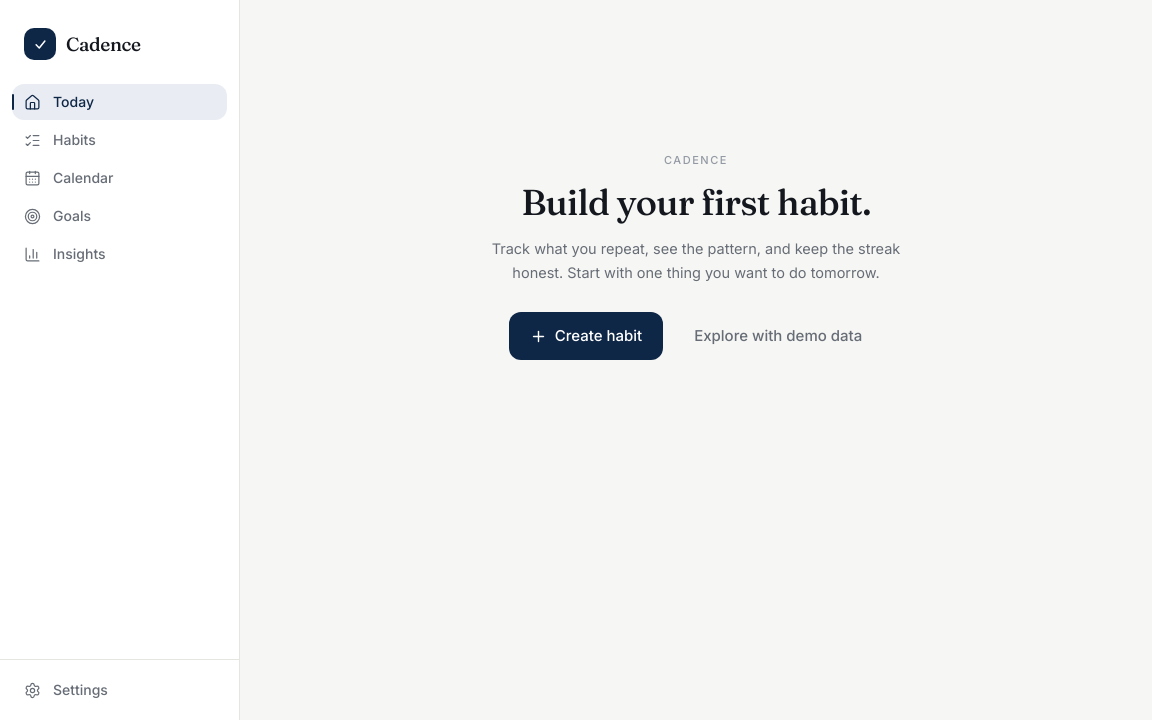
creating a habit › refuses to submit without a name
Click the button "Create habit".
click(586, 336)  # box [509,312,663,360]
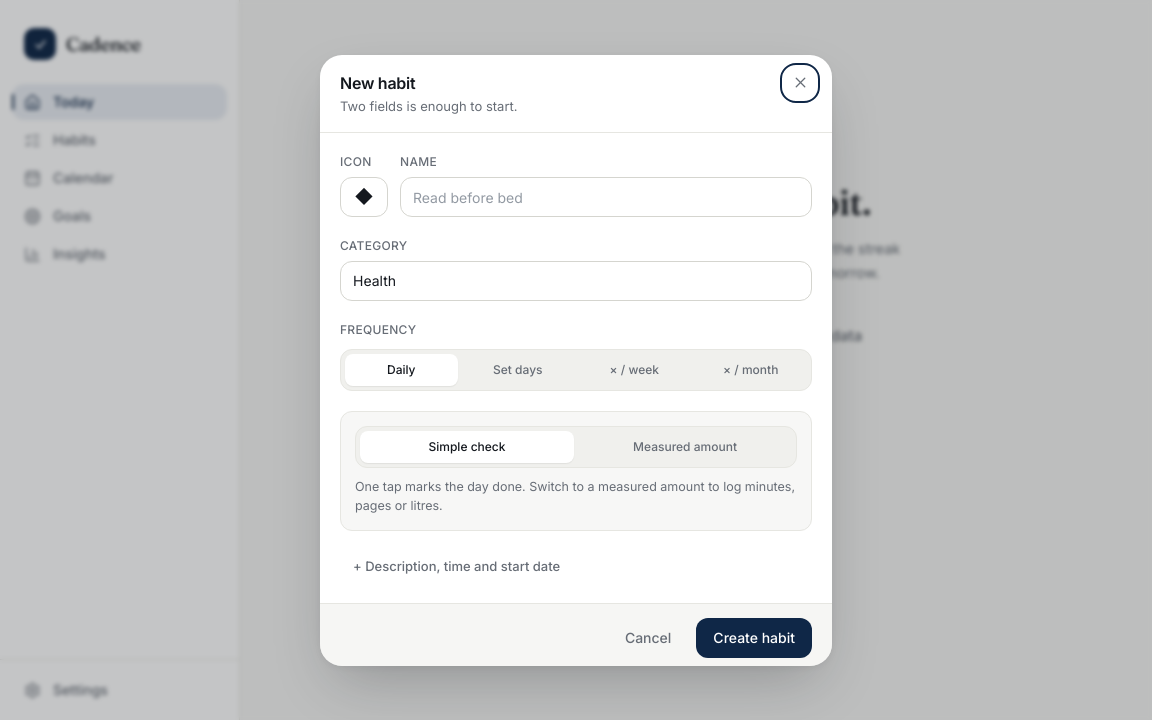
Click the button "Create habit".
click(754, 638)  # box [696,618,812,658]
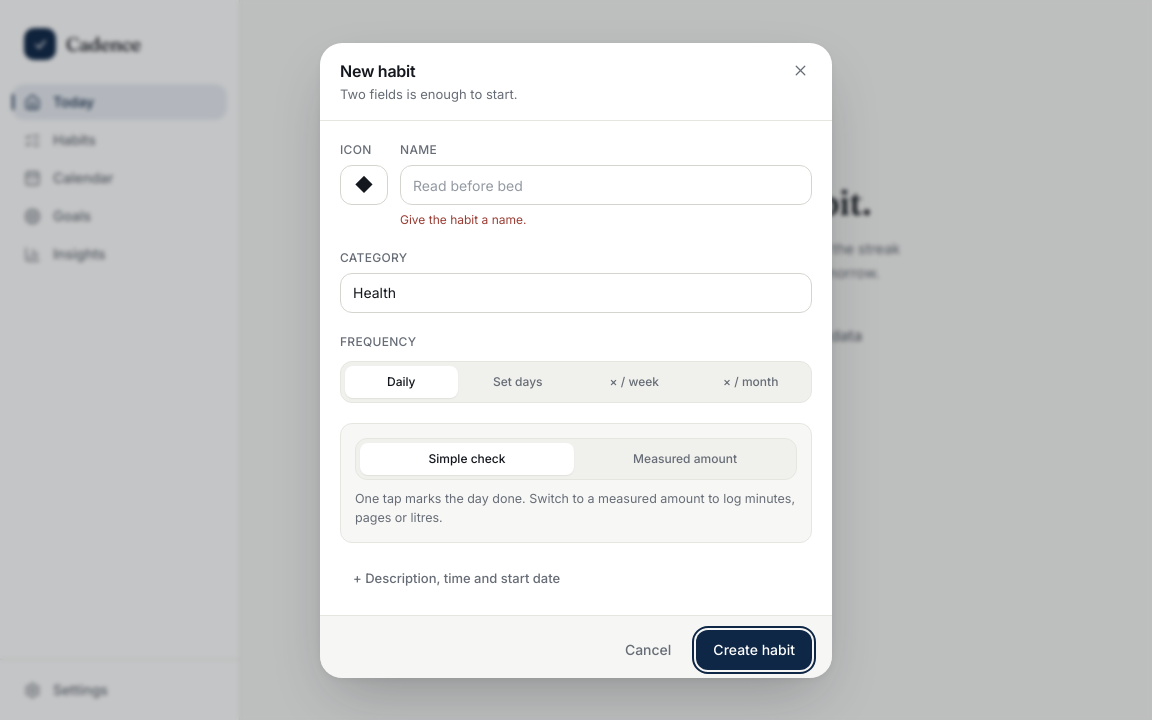
Now the message shows "Give the habit a name", box [400,212,526,227]
